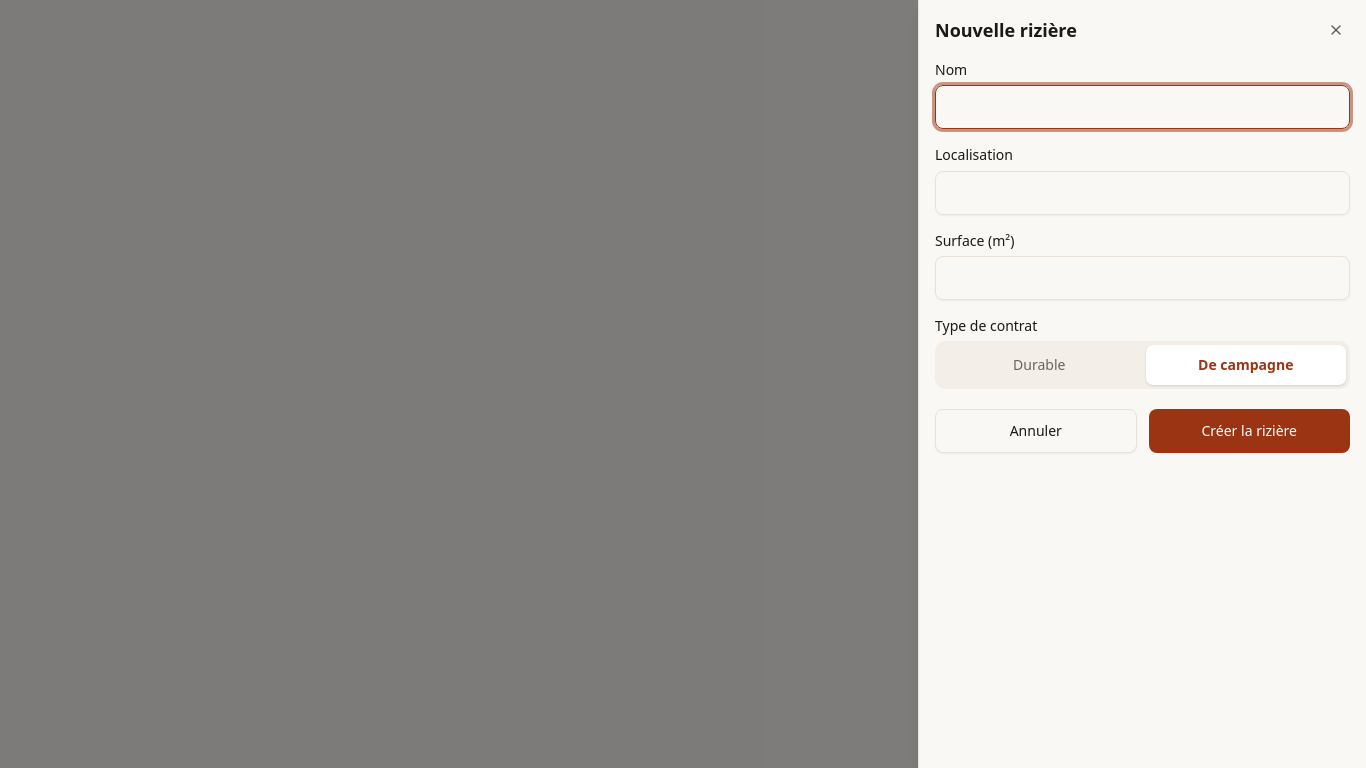
NewRiceFieldPage › requires a name and a location
Click the button "Créer la rizière" at (1249, 431), box [1148,409,1350,453]
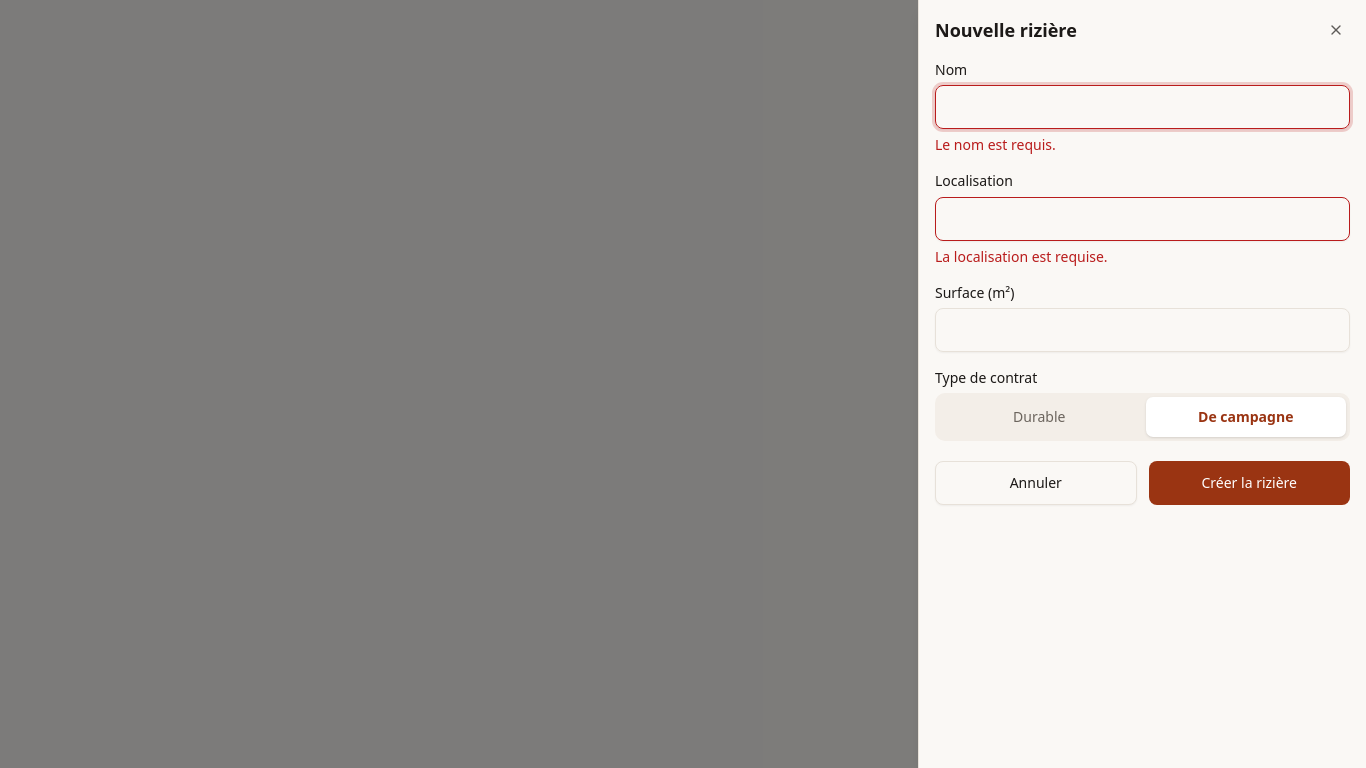
Now the messages read "Le nom est requis.", "La localisation est requise.", in this order, box [935,135,1056,154]; [935,246,1108,266]
